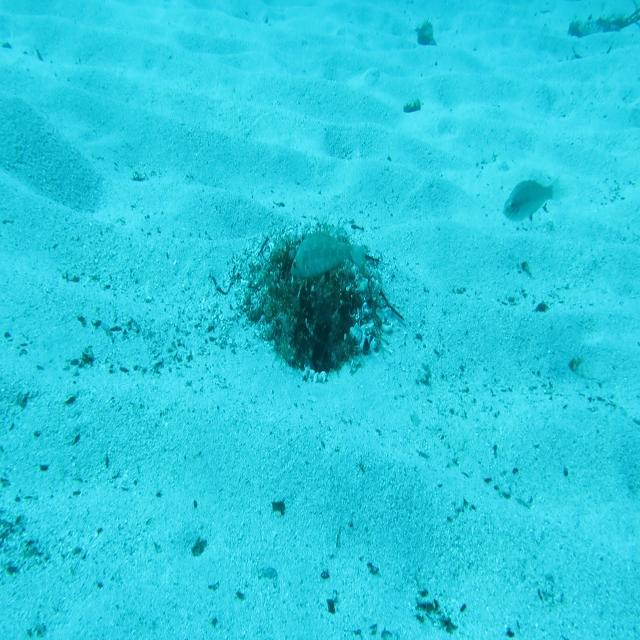INSF: (291, 228, 368, 282)
core_nest: (284, 249, 338, 287)
female: (501, 174, 561, 225)
nest: (232, 216, 398, 390)
vegetation: (565, 0, 640, 39), (413, 19, 437, 46), (270, 495, 288, 520), (401, 98, 423, 110)
